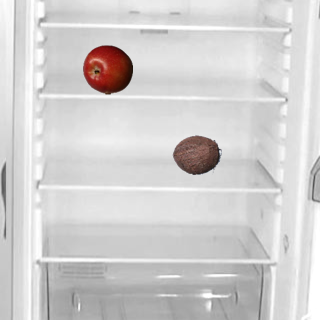Apple Braeburn: (82, 44, 132, 94)
Cocos: (171, 129, 221, 179)
